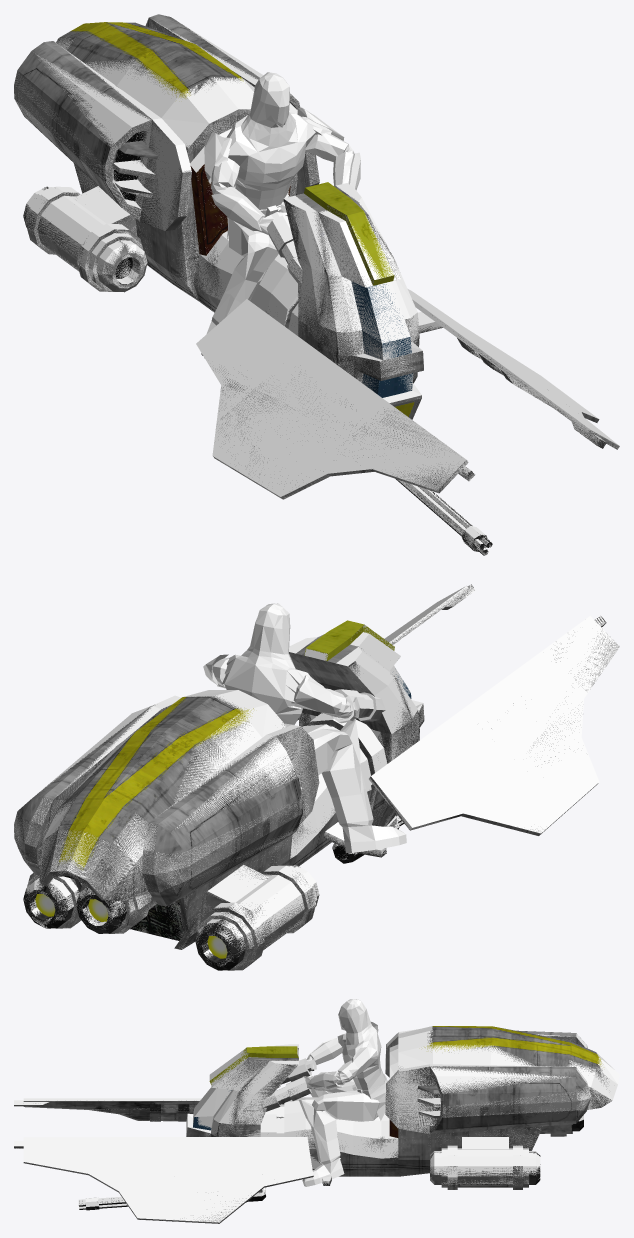
File: Mandalorian_Speeder.obj
3 renders of one model, top to bottom at view 1: azimuth 30°, elevation 25°; view 2: azimuth 150°, elevation 25°; view 3: azimuth 270°, elevation 25°, orthographic. The views are drawn at different scales.
Parts seen in each view (by area): view 1: Speeder_Shadow, Speeder, Mando; view 2: Speeder_Shadow, Speeder, Mando, Lights; view 3: Speeder_Shadow, Speeder, Mando.
Part boxes in pixels (x1,y1,x2,y2): Speeder_Shadow: [14, 21, 618, 555]; Speeder: [14, 14, 619, 555]; Mando: [204, 72, 360, 358]; Speeder_Shadow: [14, 585, 619, 969]; Speeder: [14, 584, 619, 970]; Mando: [203, 603, 406, 852]; Lights: [35, 894, 227, 958]; Speeder_Shadow: [14, 1026, 619, 1222]; Speeder: [14, 1026, 611, 1223]; Mando: [299, 999, 387, 1186].
Bounding box in the file's own units: 69.81 × 66.24 × 173.
